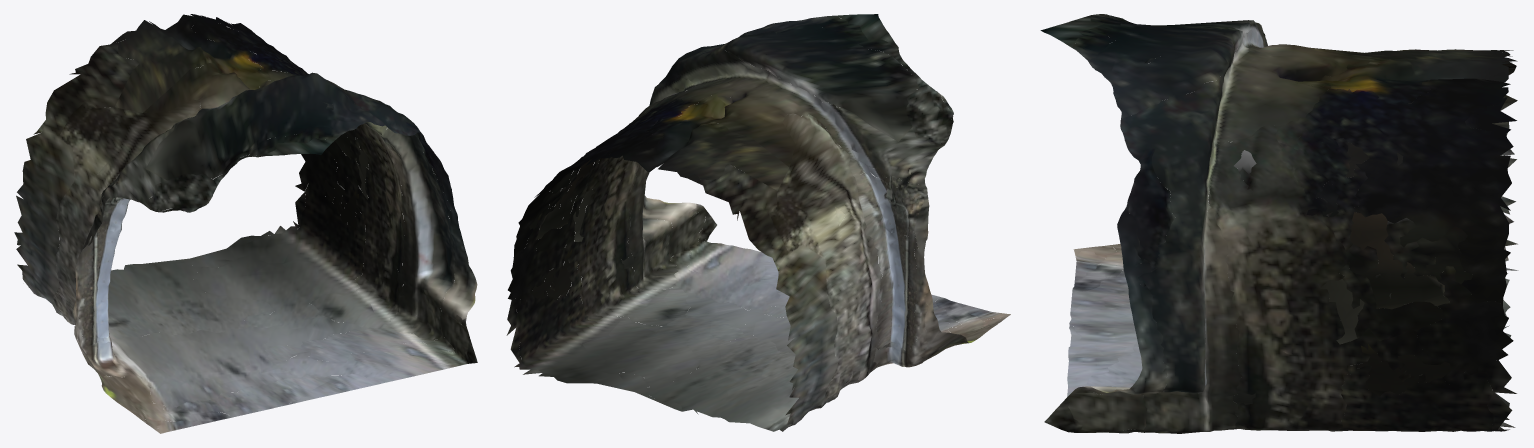
The model's file is positanos_tunnel_optimized.glb.
3 renders of one model, left to right at view 1: azimuth 30°, elevation 25°; view 2: azimuth 150°, elevation 25°; view 3: azimuth 270°, elevation 25°, orthographic. The views are drawn at different scales.
Parts seen in each view (by area): view 1: PositanosTunnelPathway; view 2: PositanosTunnelPathway; view 3: PositanosTunnelPathway.
Boxes of the visible parts, left/top/right/bottom form: PositanosTunnelPathway: left=14, top=14, right=477, bottom=433; PositanosTunnelPathway: left=506, top=14, right=1010, bottom=431; PositanosTunnelPathway: left=1040, top=14, right=1518, bottom=433.
Size of the model in its own units: 3.81 by 2.83 by 3.77.
Materials: 1 (1 with a texture image).
